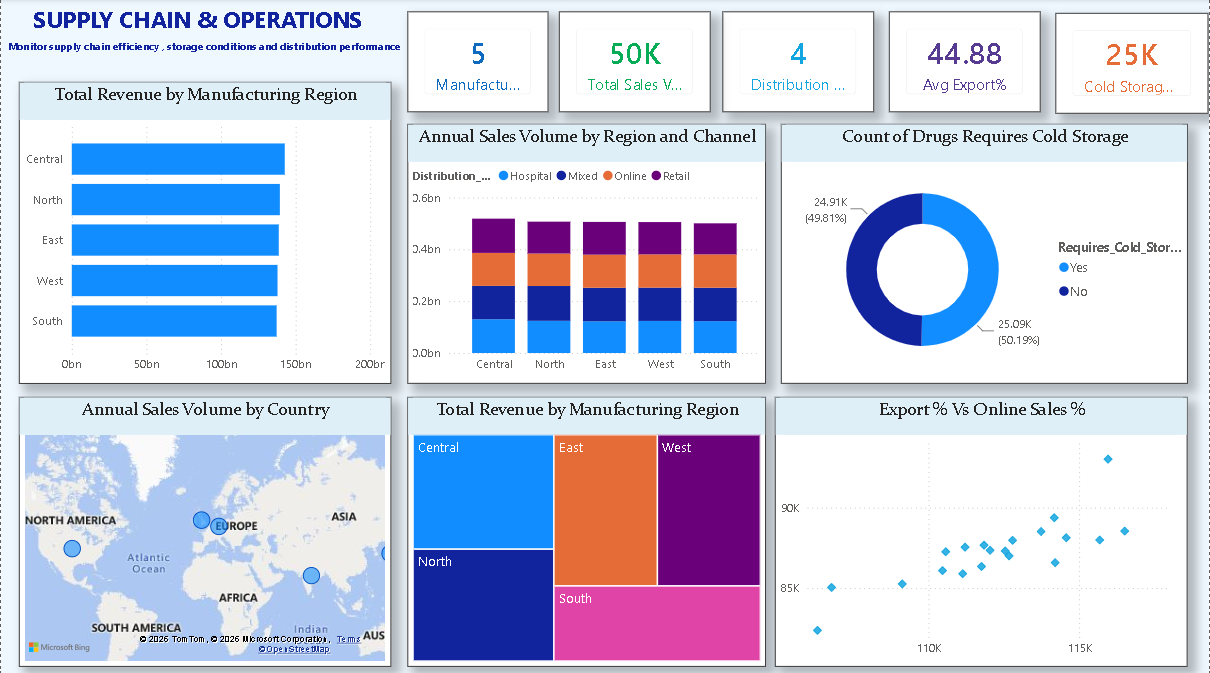

The dashboard page shown, as its layout file describes it:
{"tool":"powerbi","page":{"name":"Supply Chain & Operations","canvas":[1280,720],"ordinal":4},"visuals":[{"type":"cardVisual","fields":{"Data":["Drug_Regulatory_Dataset.Manufacturing Regions"]},"box":[431.1,14.3,149.5,106.6],"z":0},{"type":"cardVisual","fields":{"Data":["Count(Drug_Regulatory_Dataset.Distribution_Channel)"]},"box":[765.1,14.3,160.7,106.6],"z":1000},{"type":"cardVisual","fields":{"Data":["CountNonNull(Drug_Regulatory_Dataset.Annual_Sales_Volume)"]},"box":[591.7,14.3,160.7,106.6],"z":2000},{"type":"cardVisual","fields":{"Data":["Avg(Drug_Regulatory_Dataset.Export_Percentage)"]},"box":[941.6,14.3,160.7,106.6],"z":3000},{"type":"cardVisual","fields":{"Data":["Drug_Regulatory_Dataset.Cold Storage Drugs"]},"box":[1118.2,15.9,162.2,106.6],"z":4000},{"type":"barChart","title":"Total Revenue by Manufacturing Region","fields":{"Category":["Drug_Regulatory_Dataset.Manufacturing_Region"],"Y":["Drug_Regulatory_Dataset.Total Revenue"]},"box":[19.1,89.1,394.5,319.7],"z":5000},{"type":"columnChart","title":"Annual Sales Volume by Region and Channel","fields":{"Y":["Sum(Drug_Regulatory_Dataset.Annual_Sales_Volume)"],"Series":["Drug_Regulatory_Dataset.Distribution_Channel"],"Category":["Drug_Regulatory_Dataset.Manufacturing_Region"]},"box":[431.1,133.6,380.2,275.2],"z":6000},{"type":"donutChart","title":"Count of Drugs Requires Cold Storage","fields":{"Category":["Drug_Regulatory_Dataset.Requires_Cold_Storage"],"Y":["CountNonNull(Drug_Regulatory_Dataset.Drug_Name)"]},"box":[827.1,133.6,431.1,275.2],"z":7000},{"type":"map","title":"Annual Sales Volume by Country","fields":{"Category":["Drug_Regulatory_Dataset.Country_of_Origin"],"Size":["Sum(Drug_Regulatory_Dataset.Annual_Sales_Volume)"]},"box":[19.1,423.1,394.5,286.3],"z":8000},{"type":"treemap","title":"Total Revenue by Manufacturing Region","fields":{"Group":["Drug_Regulatory_Dataset.Manufacturing_Region"],"Values":["Drug_Regulatory_Dataset.Total Revenue"]},"box":[431.1,423.1,380.2,286.3],"z":9000},{"type":"scatterChart","title":"Export % Vs Online Sales %","fields":{"X":["Sum(Drug_Regulatory_Dataset.Export_Percentage)"],"Y":["Sum(Drug_Regulatory_Dataset.Online_Sales_Percentage)"],"Category":["Drug_Regulatory_Dataset.Drug_Name"]},"box":[820.8,423.1,437.4,286.3],"z":10000},{"type":"textbox","box":[19.1,0,378.6,46.1],"z":11000},{"type":"textbox","box":[0,35,431.1,33.4],"z":12000}]}

Visuals, with their boxes in screenshot pixels (x1, y1, x2, y2), scaled from the page's 1280x720 canvas onto the 1210x673 screenshot:
cardVisual - Drug_Regulatory_Dataset.Manufacturing Regions: bbox=[408, 13, 549, 113]
cardVisual - Count(Drug_Regulatory_Dataset.Distribution_Channel): bbox=[723, 13, 875, 113]
cardVisual - CountNonNull(Drug_Regulatory_Dataset.Annual_Sales_Volume): bbox=[559, 13, 711, 113]
cardVisual - Avg(Drug_Regulatory_Dataset.Export_Percentage): bbox=[890, 13, 1042, 113]
cardVisual - Drug_Regulatory_Dataset.Cold Storage Drugs: bbox=[1057, 15, 1209, 115]
"Total Revenue by Manufacturing Region" barChart: bbox=[18, 83, 391, 382]
"Annual Sales Volume by Region and Channel" columnChart: bbox=[408, 125, 767, 382]
"Count of Drugs Requires Cold Storage" donutChart: bbox=[782, 125, 1189, 382]
"Annual Sales Volume by Country" map: bbox=[18, 395, 391, 663]
"Total Revenue by Manufacturing Region" treemap: bbox=[408, 395, 767, 663]
"Export % Vs Online Sales %" scatterChart: bbox=[776, 395, 1189, 663]
textbox: bbox=[18, 0, 376, 43]
textbox: bbox=[0, 33, 408, 64]
